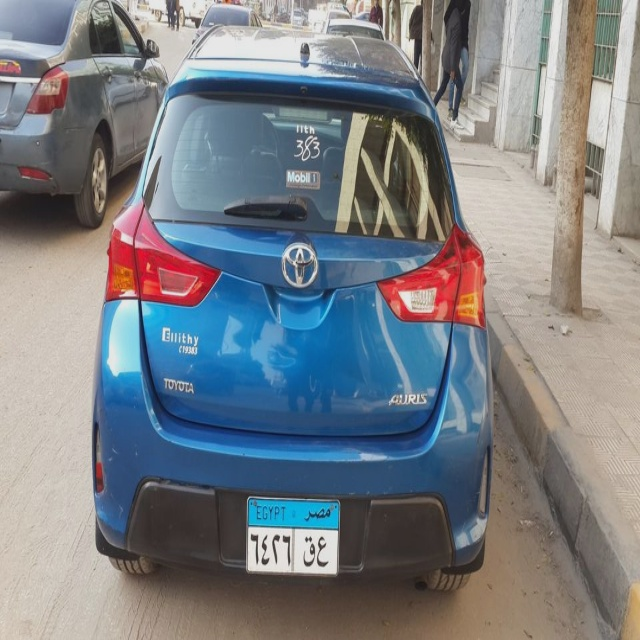License Plate: (244, 494, 341, 578)
